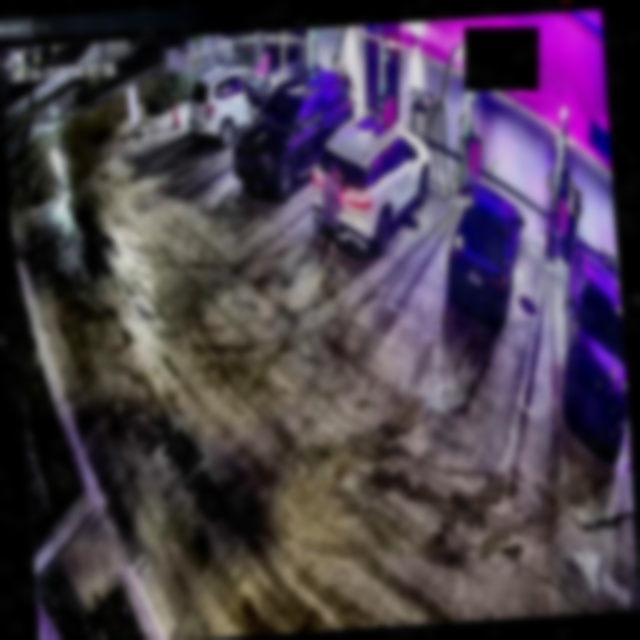Car: (308, 111, 436, 266), (227, 65, 358, 198), (441, 181, 528, 328), (186, 61, 284, 145)
